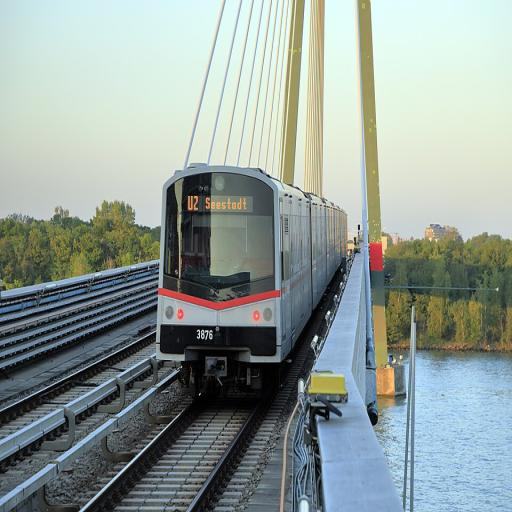V-Wagen: (155, 160, 349, 390)
